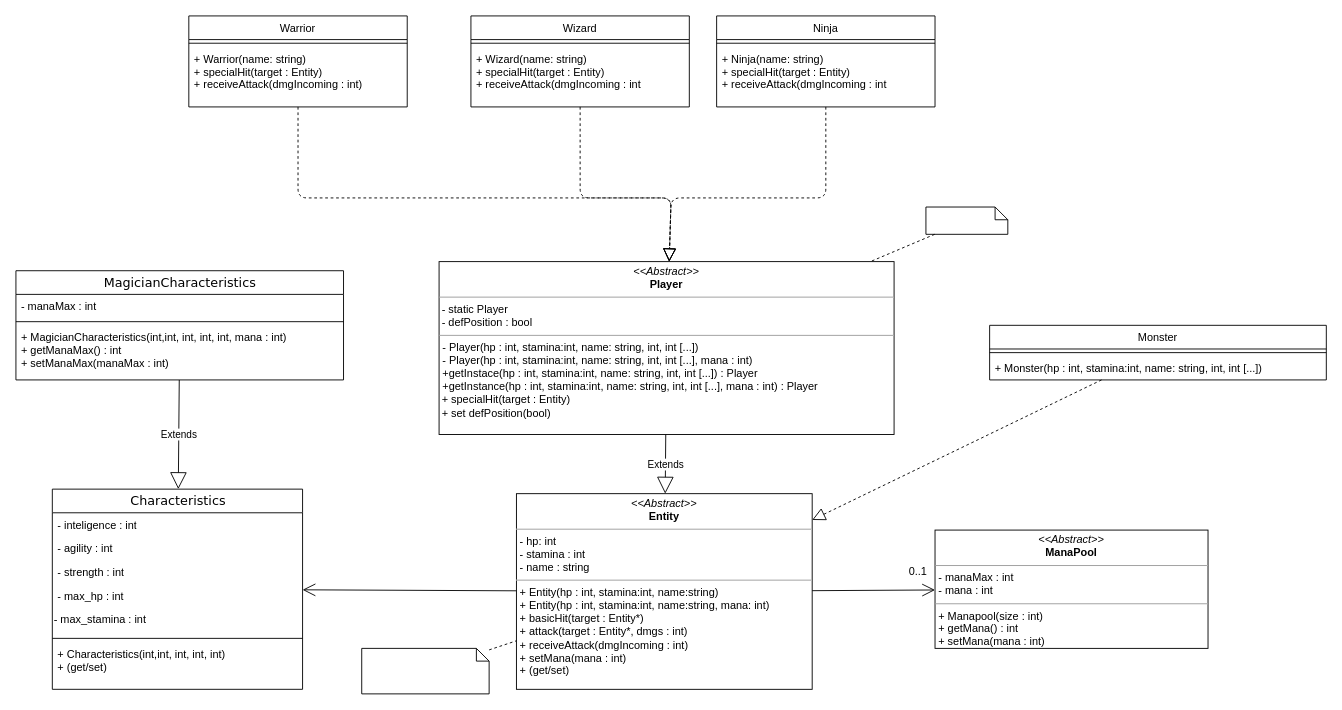
The diagram is 1342 pixels wide and 710 high, and some of its shapes have lost their labels. Here are the shapes that lost their labels. From the top down, the centre of each, then its label:
At (966,220): "Singleton !".
At (425,670): "BasicHit call attack with dmgs = strenght".
